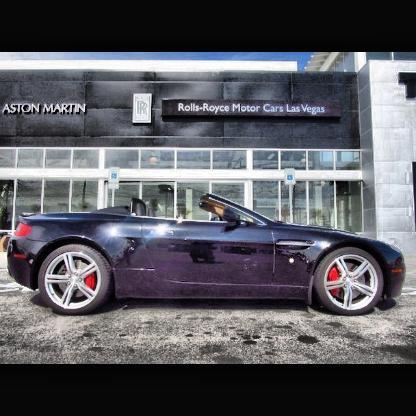Aston Martin V8 Vantage Convertible 2012: (8, 196, 408, 317)
